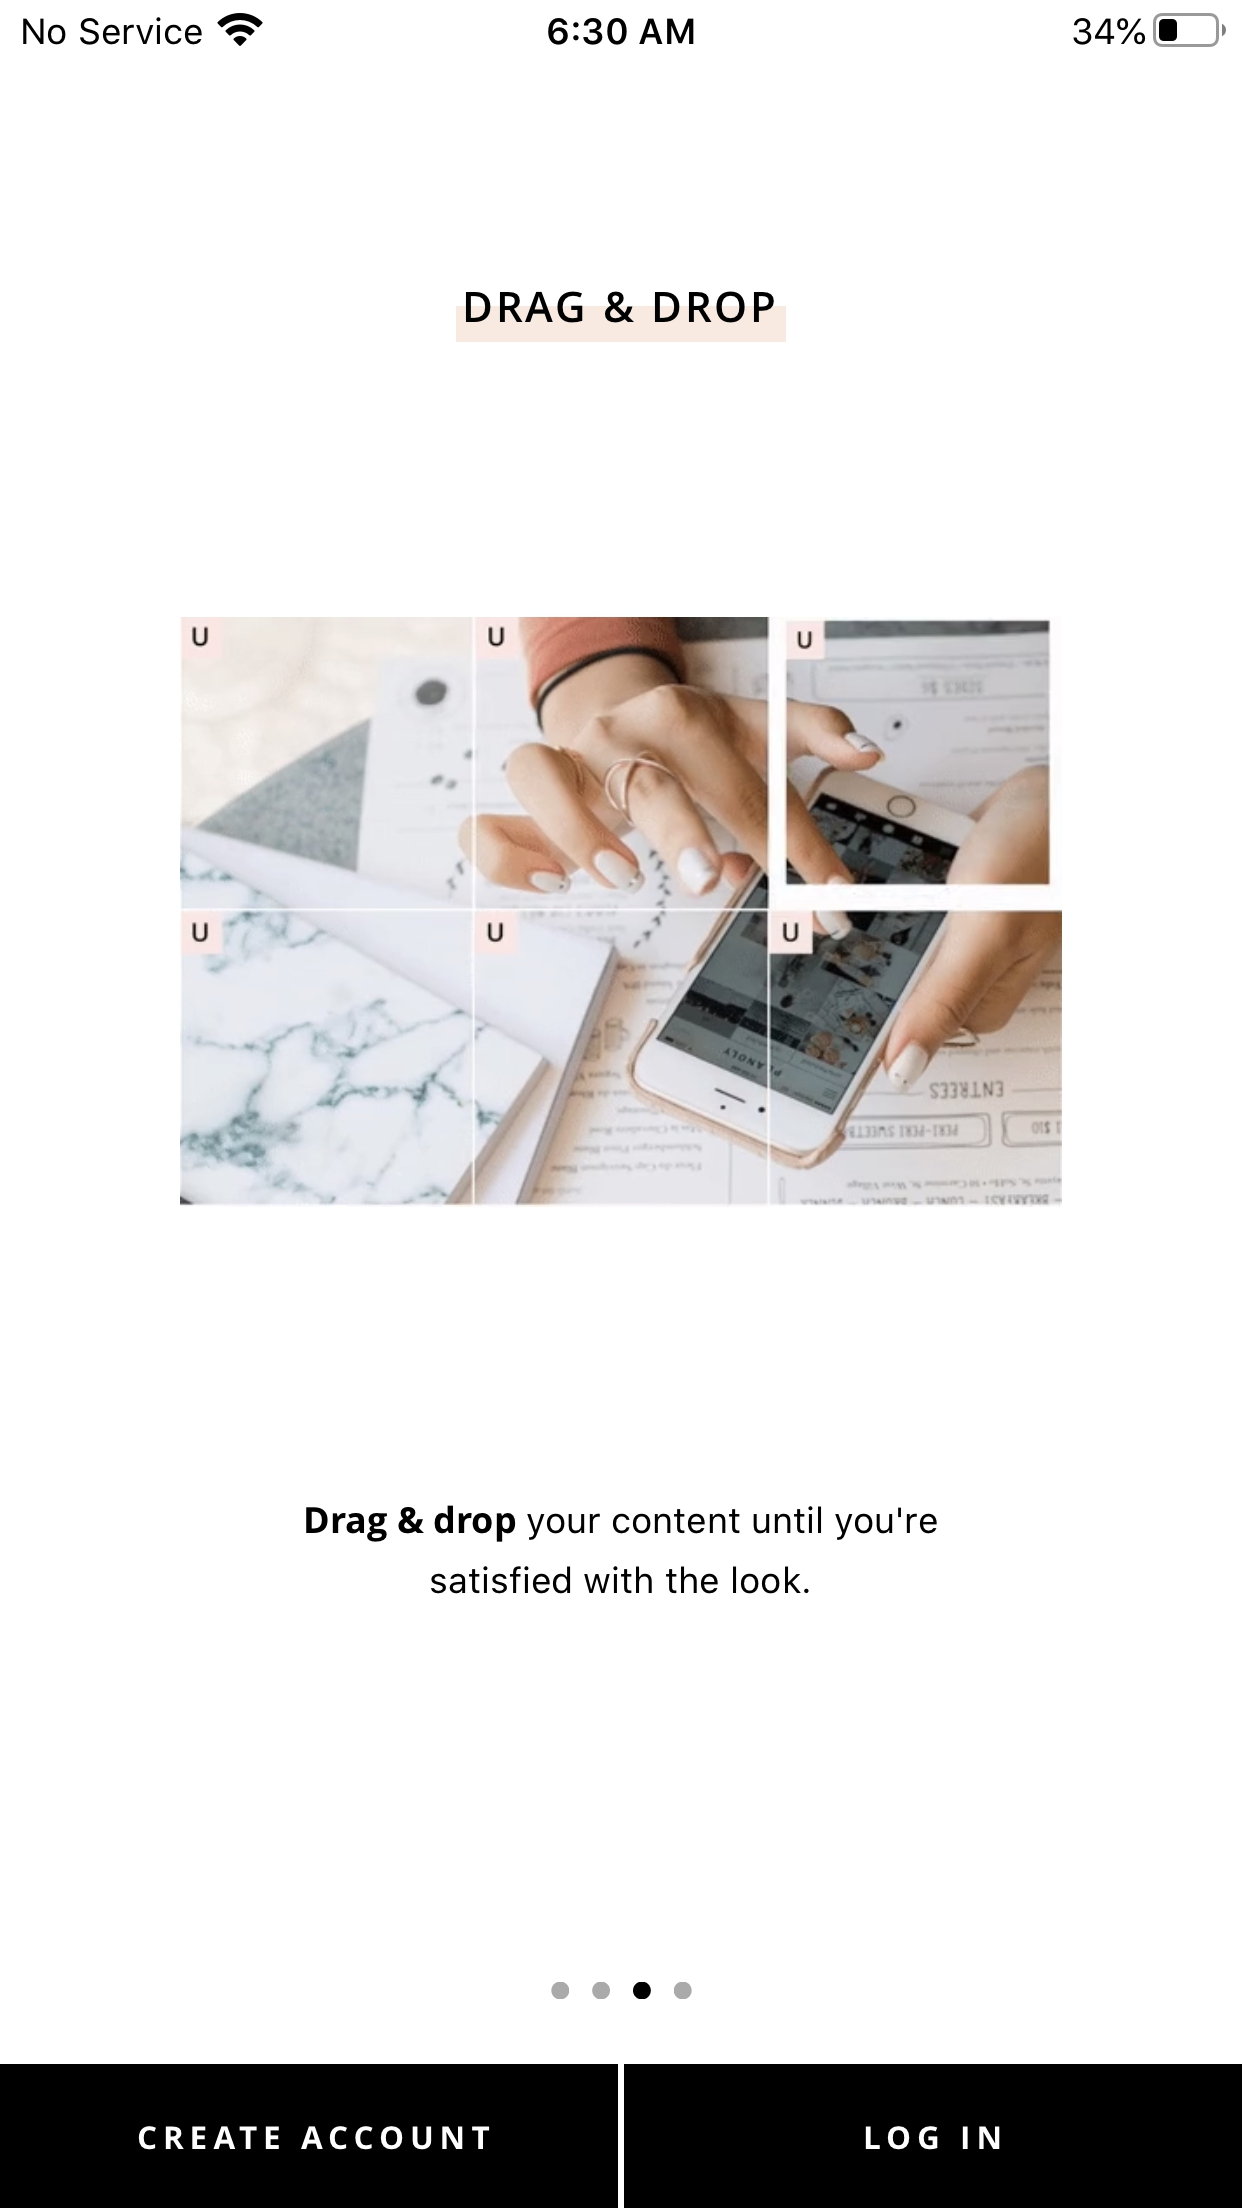Image: (180, 617, 1062, 1207)
PageIndicator: (550, 1982, 692, 1999)
Text: (306, 1504, 937, 1594), (466, 291, 773, 323)
TextButton: (623, 2064, 1240, 2208), (2, 2064, 619, 2208)
UpperTaskBar: (2, 2, 1242, 49)
